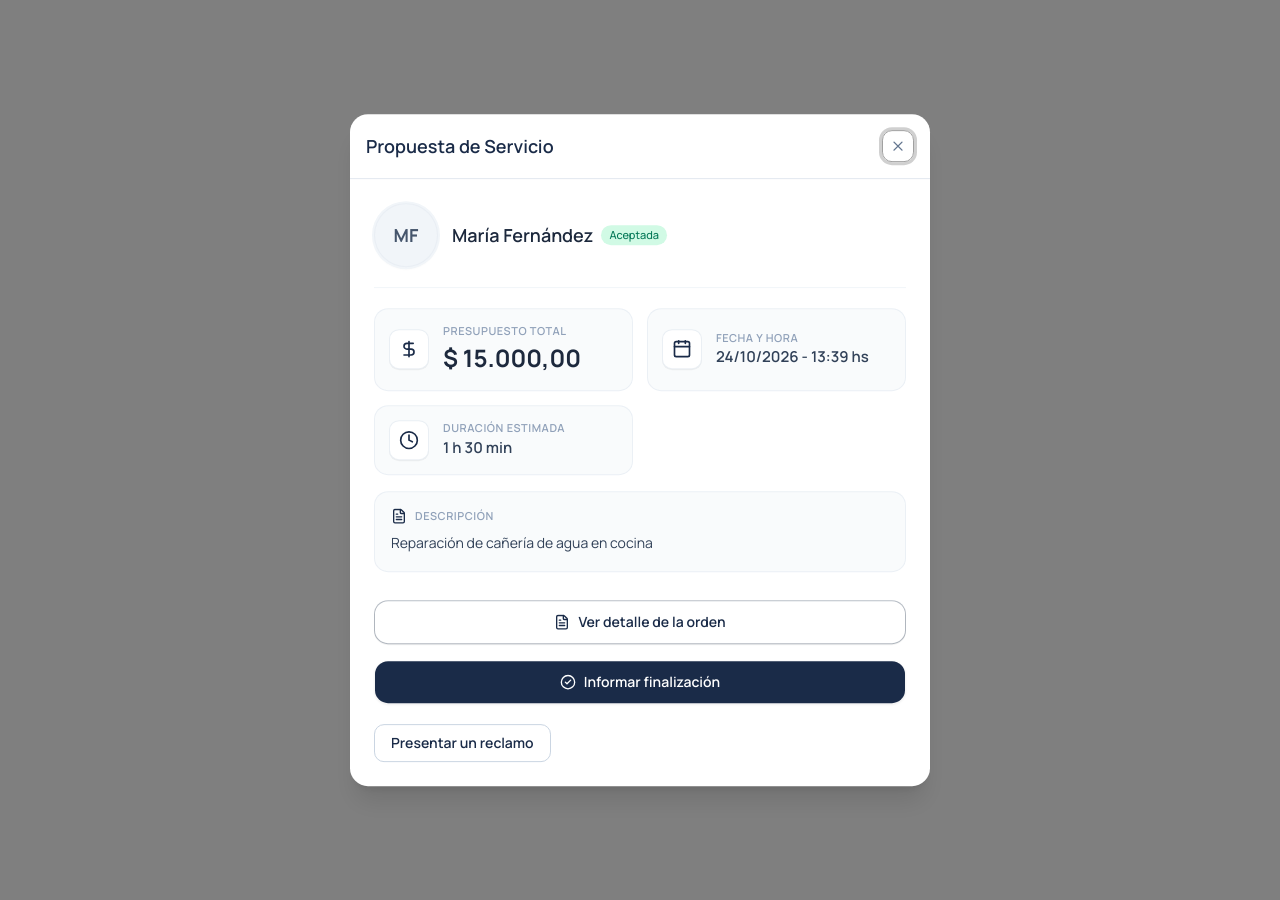
Test case: ServiceProposalDetailModal › US-26 Work Order Completion Actions › opens ReportWorkCompletionModal when 'Informar finalización' is clicked
Click the button "Informar finalización" at (640, 682), box left=374, top=660, right=906, bottom=704
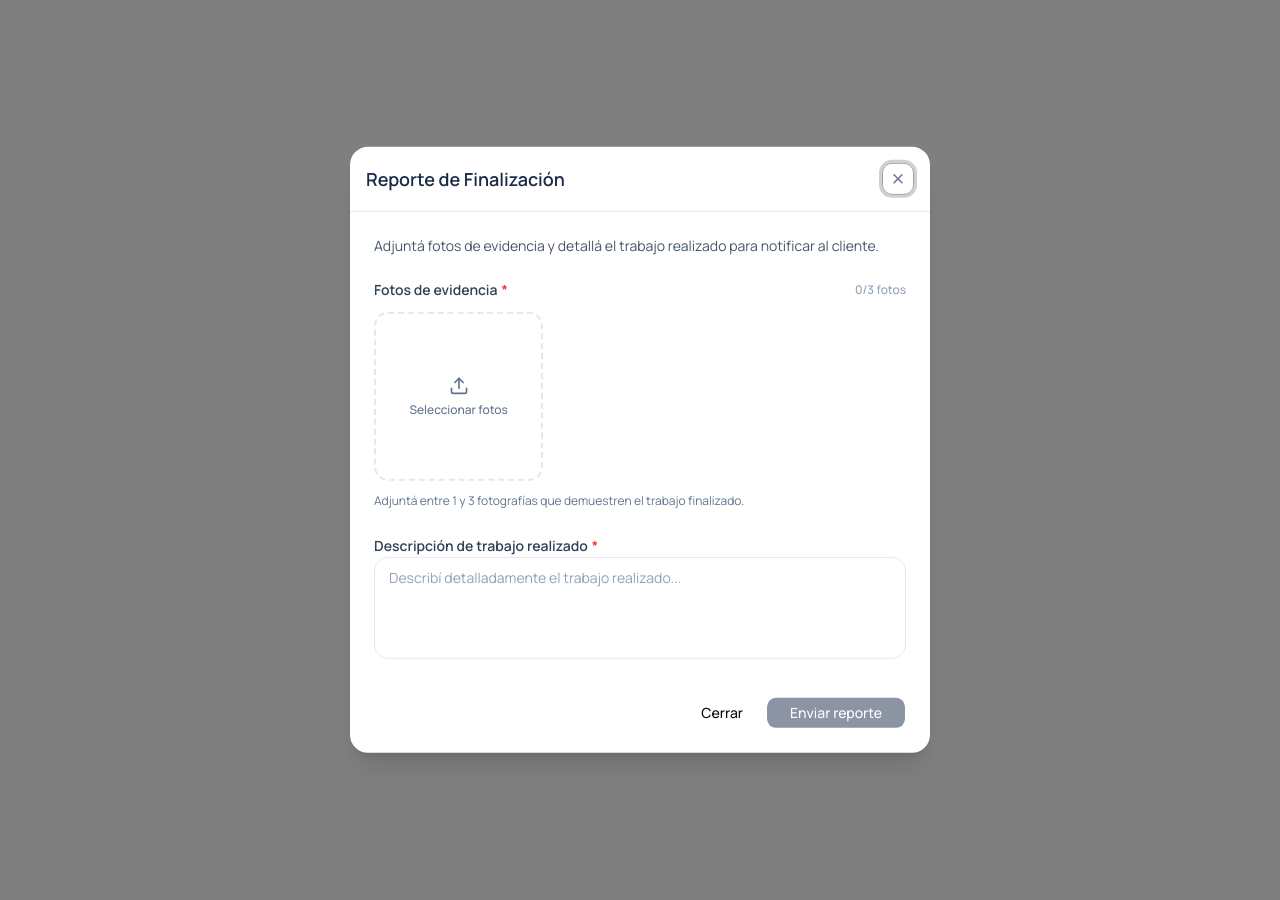
Now the dialog "Reporte de Finalización" is shown, box left=350, top=147, right=930, bottom=753
